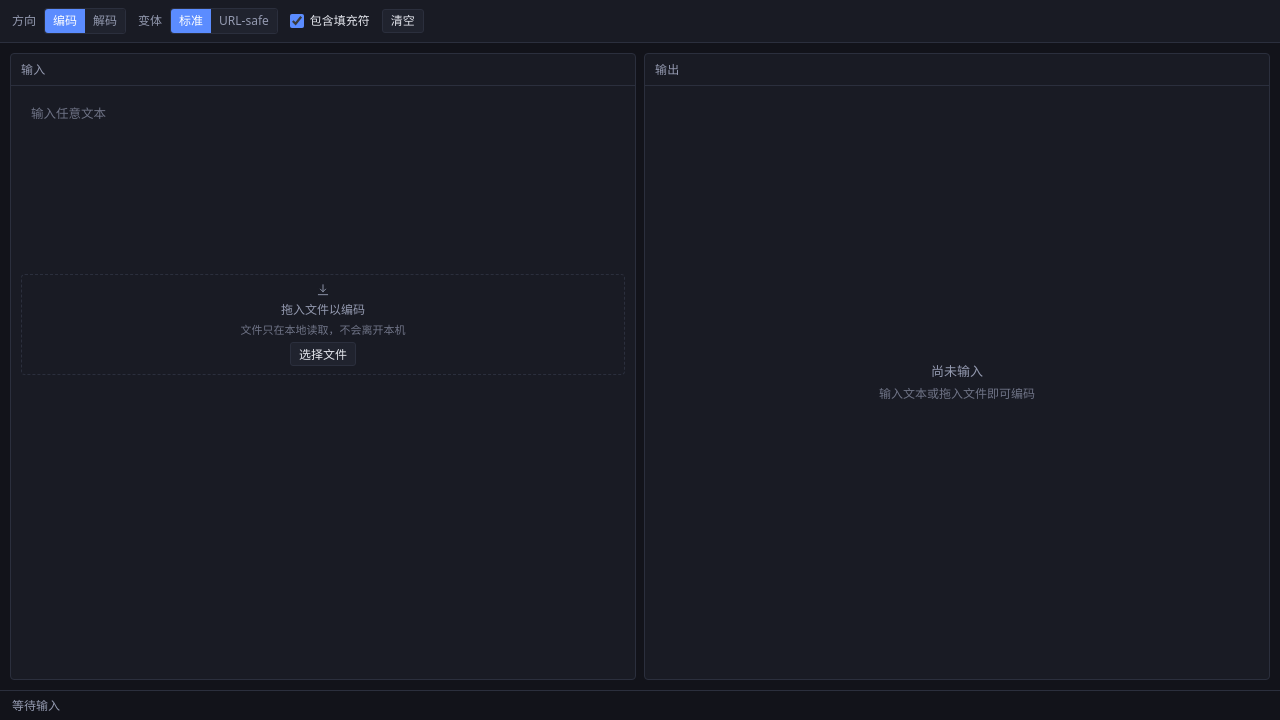
Test: Base64 工具 › 解码结果不是 UTF-8 文本时提示改用文件下载
The width and height of the screenshot is (1280, 720).
Click the button "解码".
click(105, 21)  # box [85,9,125,33]
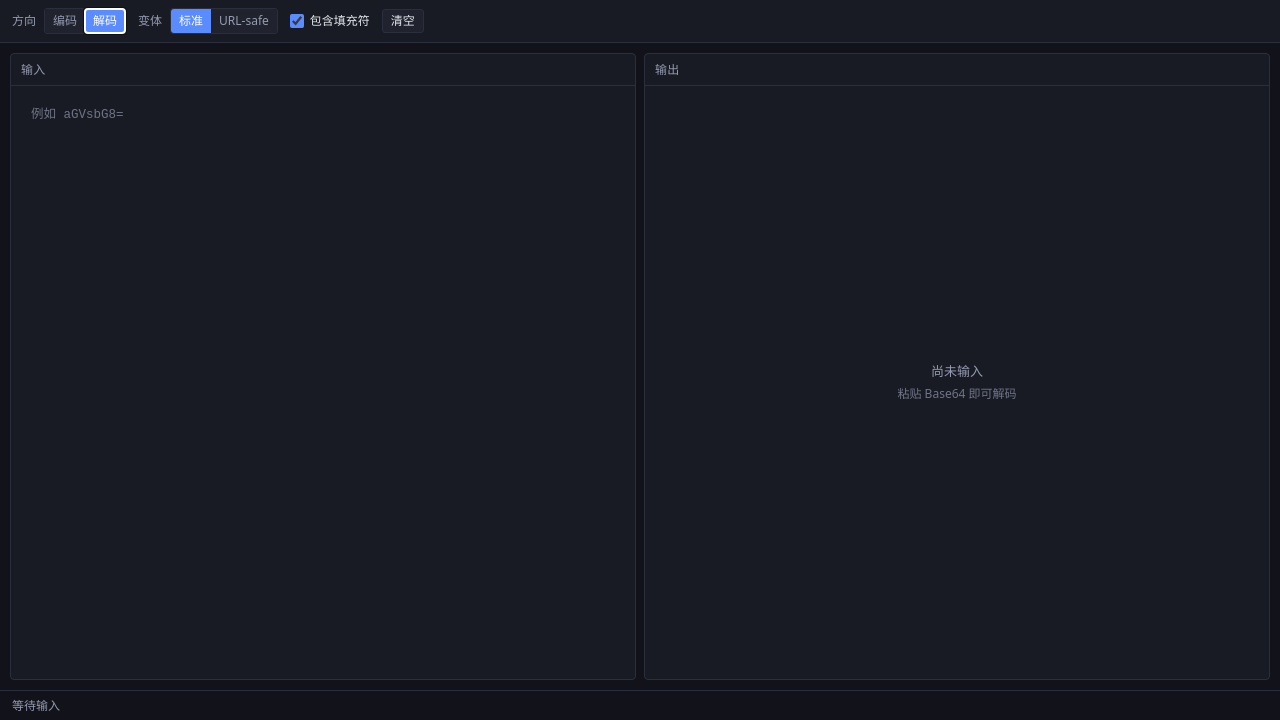
Type "/w==" into the text box named "待解码的 Base64".
click(323, 181); type("/w==")  # box [21,96,625,266]
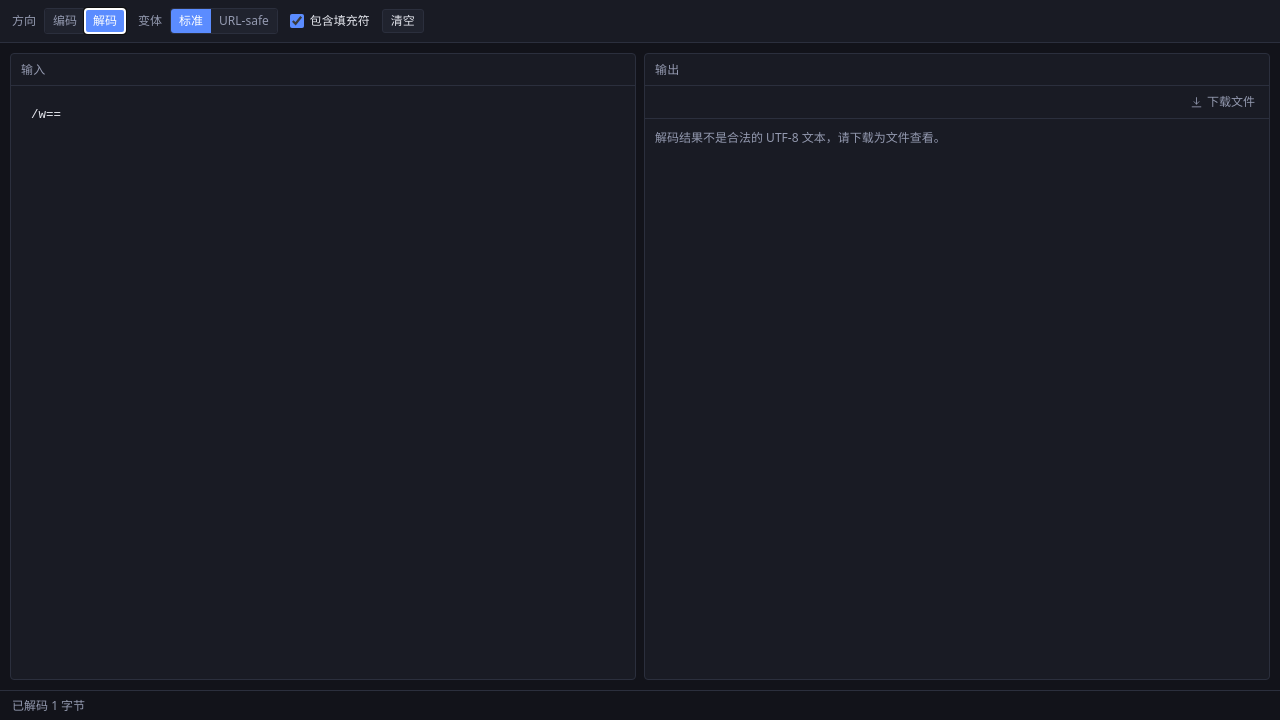
Now the text "解码结果不是合法的 UTF-8 文本，请下载为文件查看。" is shown, box [655,129,946,146]
Now the button "下载文件" is shown, box [1182,90,1263,114]
